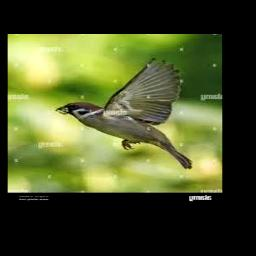Sparrow: (56, 58, 192, 168)
